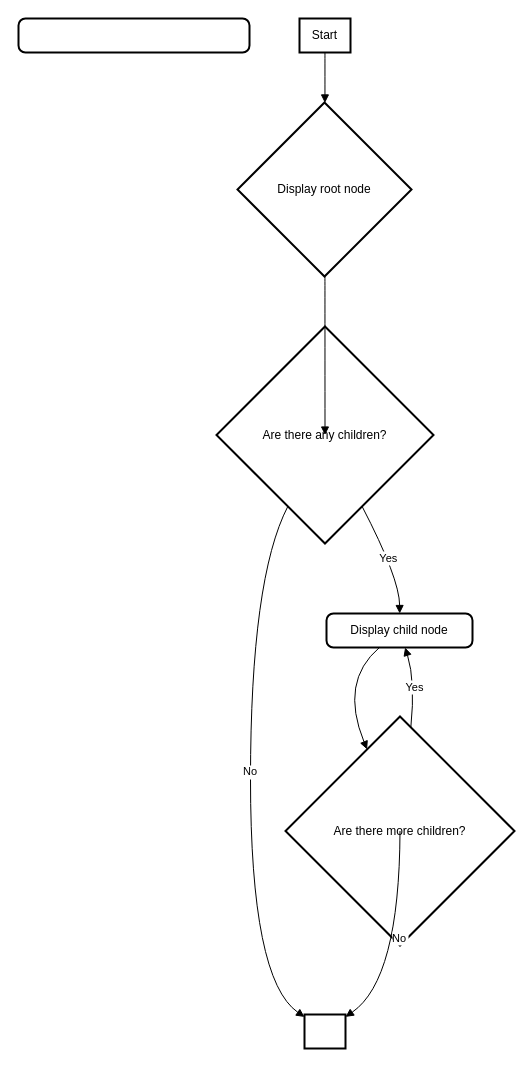
Some shapes in this 532 by 1066 pixel diagram are drawn without their labels. Here are the shapes that lost their labels. From the top down, the centre of each, then its label:
At pixel 133 35: "Tree structure display process".
At pixel 324 1031: "End".
